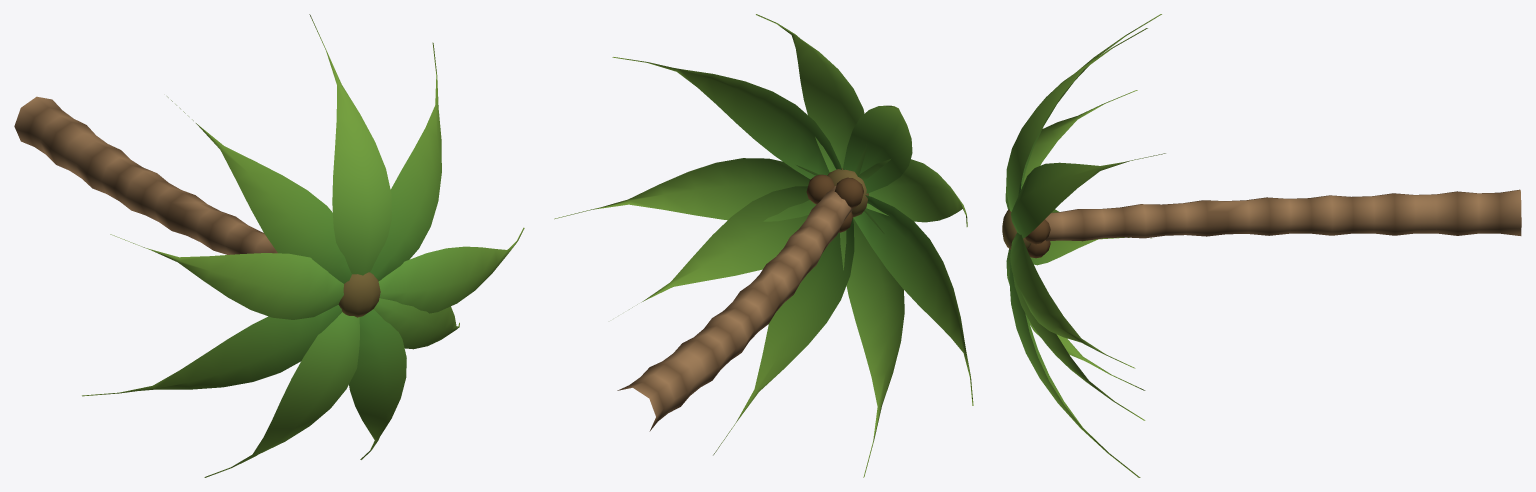
Rendered from palm.glb.
3 renders of one model, left to right at view 1: azimuth 30°, elevation 25°; view 2: azimuth 150°, elevation 25°; view 3: azimuth 270°, elevation 25°, orthographic. The views are drawn at different scales.
Parts seen in each view (by area): view 1: PalmFronds, PalmTrunk, PalmNuts; view 2: PalmFronds, PalmTrunk, PalmNuts; view 3: PalmTrunk, PalmFronds, PalmNuts.
Part boxes in pixels (x1,y1,x2,y2): PalmFronds: (82, 14, 524, 477); PalmTrunk: (14, 96, 277, 254); PalmNuts: (338, 272, 380, 317); PalmFronds: (554, 14, 973, 477); PalmTrunk: (617, 186, 852, 431); PalmNuts: (806, 168, 868, 232); PalmTrunk: (1045, 189, 1521, 241); PalmFronds: (1005, 14, 1165, 477); PalmNuts: (1002, 209, 1050, 258).
Bounding box in the file's own units: 0.902 × 0.9104 × 1.
